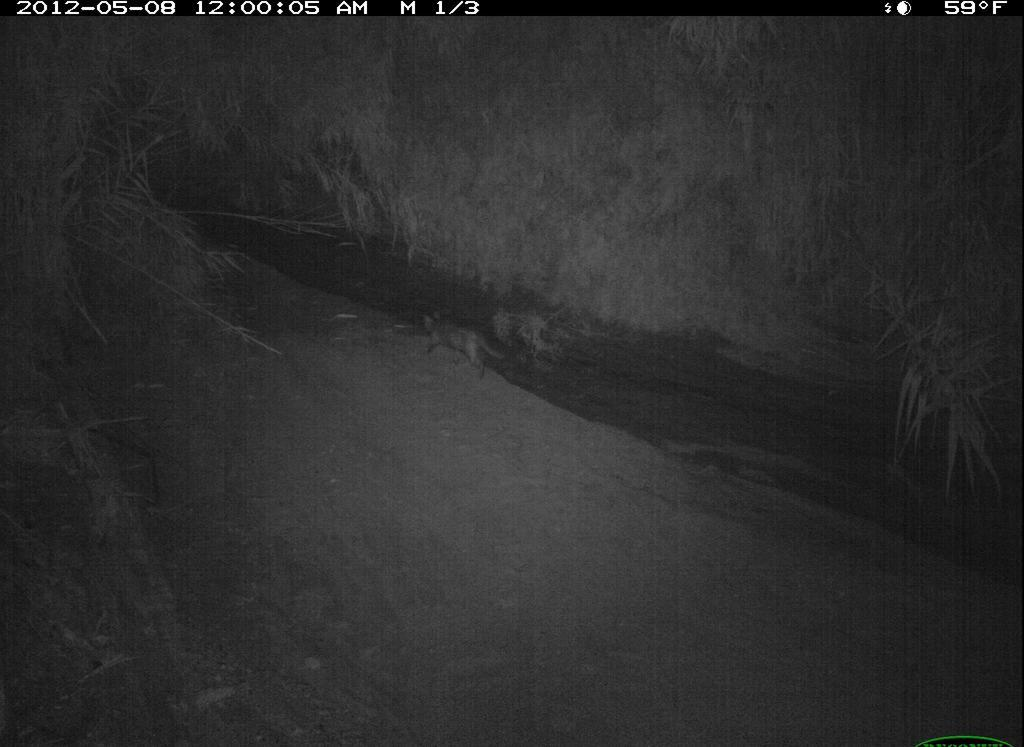cat: (829, 602, 1022, 747)
